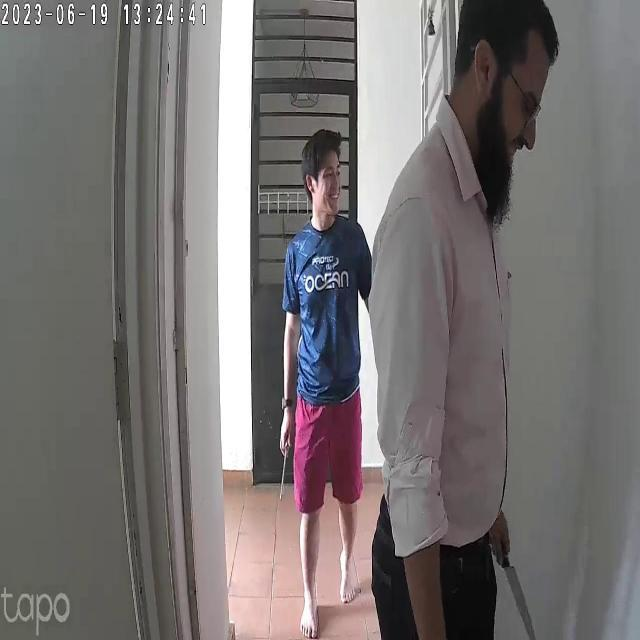Knife: (496, 562, 552, 632), (266, 427, 302, 499)
